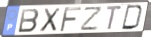B: (17, 8, 40, 34)
D: (120, 5, 144, 31)
F: (58, 7, 83, 33)
T: (105, 5, 123, 32)
X: (38, 7, 62, 33)
Z: (79, 5, 104, 32)
